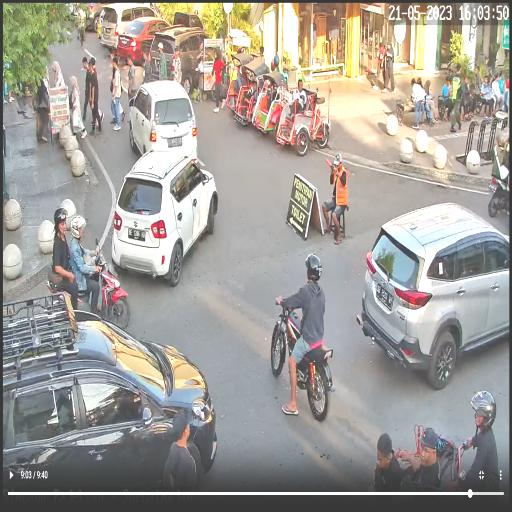mobil: (0, 284, 218, 496), (356, 206, 512, 376), (111, 151, 218, 287), (124, 77, 199, 161), (147, 23, 212, 94), (99, 3, 159, 56), (118, 20, 172, 68)
motor: (266, 287, 330, 418)
